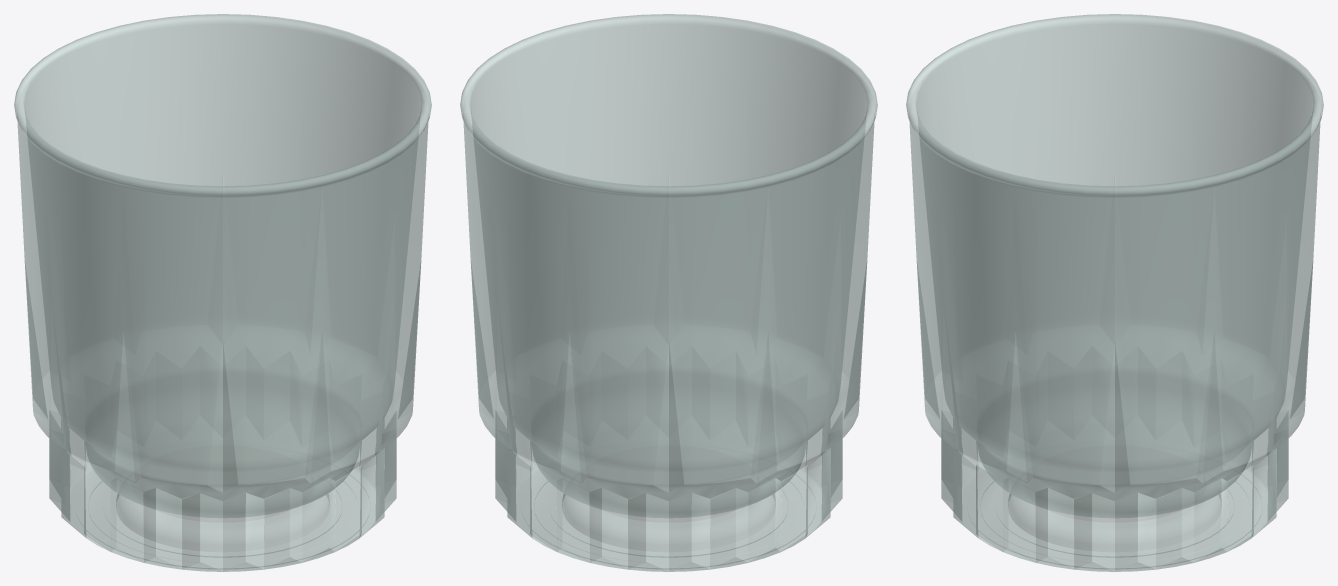
The picture shows the model from 3 angles, left to right: view 1: azimuth 30°, elevation 25°; view 2: azimuth 150°, elevation 25°; view 3: azimuth 270°, elevation 25°; orthographic projection.
Parts seen in each view (by area): view 1: arcoroc10b.011, Tumbler.001; view 2: arcoroc10b.011, Tumbler.001; view 3: arcoroc10b.011, Tumbler.001.
Boxes of the visible parts, x1,y1,x2,y2 form: arcoroc10b.011: (14, 14, 431, 571); Tumbler.001: (132, 446, 313, 522); arcoroc10b.011: (460, 14, 877, 571); Tumbler.001: (578, 446, 759, 522); arcoroc10b.011: (906, 14, 1323, 571); Tumbler.001: (1024, 446, 1205, 522).
Bounding box in the file's own units: 0.0821 × 0.0881 × 0.0821.
